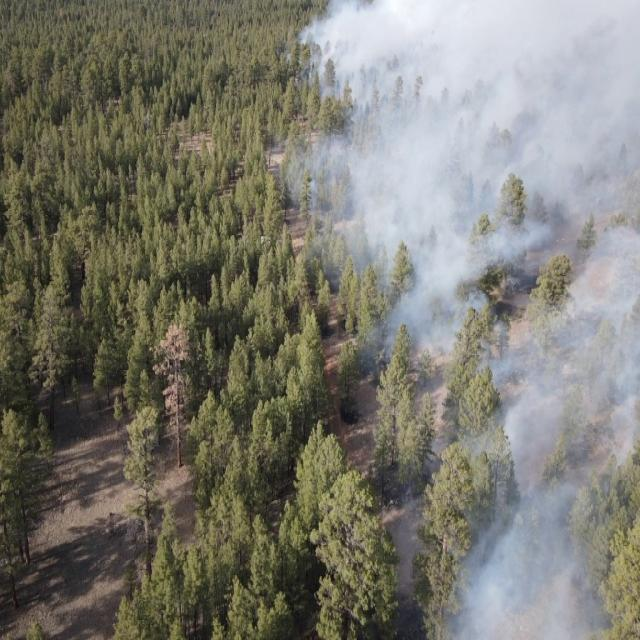smoke: (293, 0, 640, 344), (378, 340, 640, 640)
